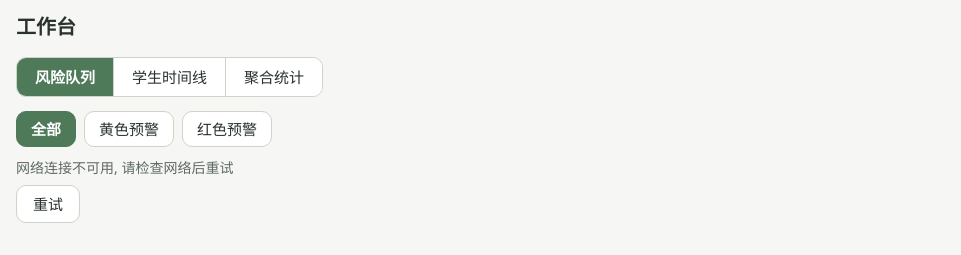
Test: WorkbenchView (咨询员工作台) › 端点其他失败: 行内错误提示可重试, 不触发降级页
The image size is (961, 255).
Expected: the text "网络连接不可用, 请检查网络后重试" is shown, [16,157,233,179]
Click the button "重试" at (48, 204), box [16,185,80,223]
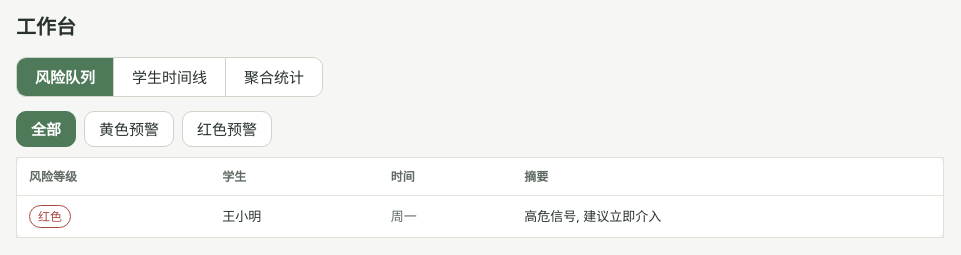
Result: the text "王小明" is shown at [210,196,379,238]
